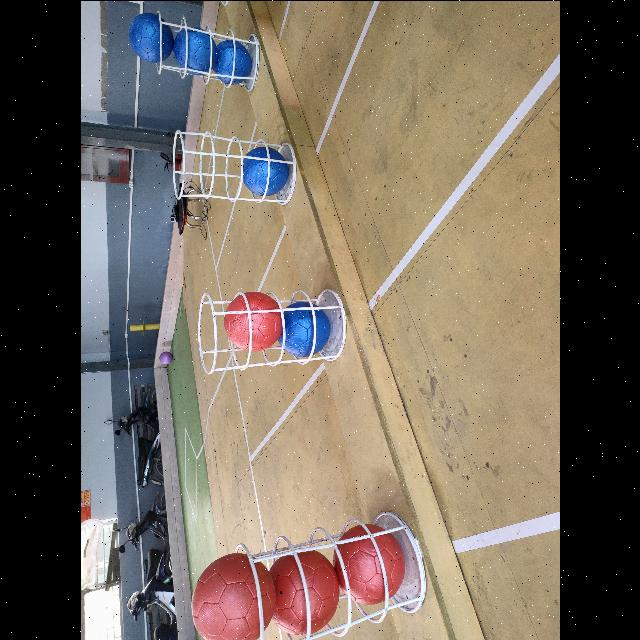B: (281, 299, 331, 355), (127, 13, 175, 63), (242, 144, 288, 196), (176, 30, 218, 74), (212, 38, 250, 84)
R: (191, 550, 275, 640), (334, 522, 404, 604), (271, 548, 337, 634), (224, 290, 282, 352)
